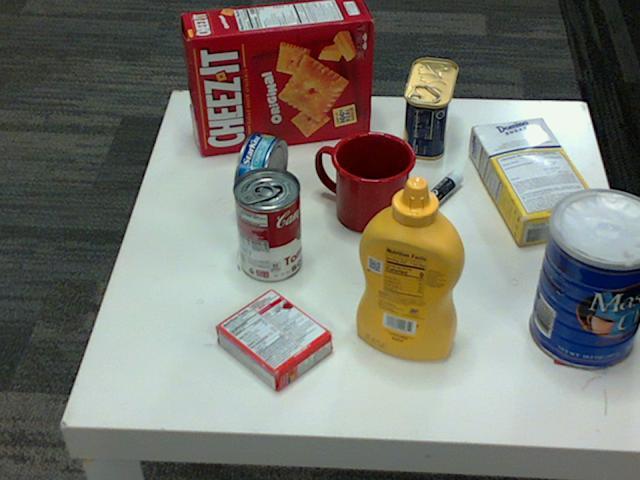cracker_box: (182, 0, 370, 153)
gelatin_box: (212, 288, 328, 393)
large_marker: (396, 174, 463, 234)
master_chef_can: (530, 189, 639, 370)
mug: (315, 129, 415, 232)
mustard_bottle: (355, 177, 465, 360)
potted_meat_can: (402, 59, 456, 160)
sugar_box: (469, 119, 603, 246)
tomato_soup_can: (233, 167, 301, 282)
tuna_fish_can: (232, 131, 287, 210)
